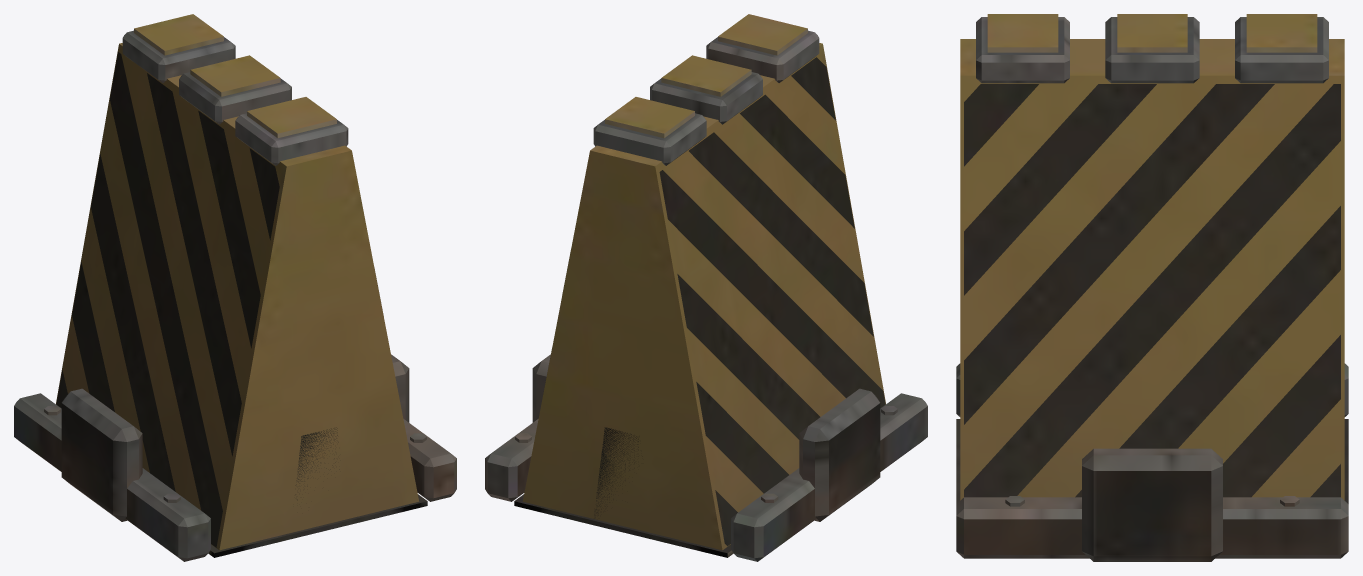
Rendered from gate-old.glb.
The picture shows the model from 3 angles, left to right: view 1: azimuth 30°, elevation 25°; view 2: azimuth 150°, elevation 25°; view 3: azimuth 270°, elevation 25°; orthographic projection. The views are drawn at different scales.
Visible parts, largest first — view 1: anim_gate_door, body; view 2: anim_gate_door, body; view 3: anim_gate_door, body.
Part boxes in pixels (x1,y1,x2,y2): anim_gate_door: (56,14,419,550); body: (14,354,456,561); anim_gate_door: (522,14,885,550); body: (485,354,927,561); anim_gate_door: (960,14,1344,500); body: (956,363,1348,561).
Bounding box in the file's own units: 1 × 1.28 × 1.
1 material, 1 textured.
